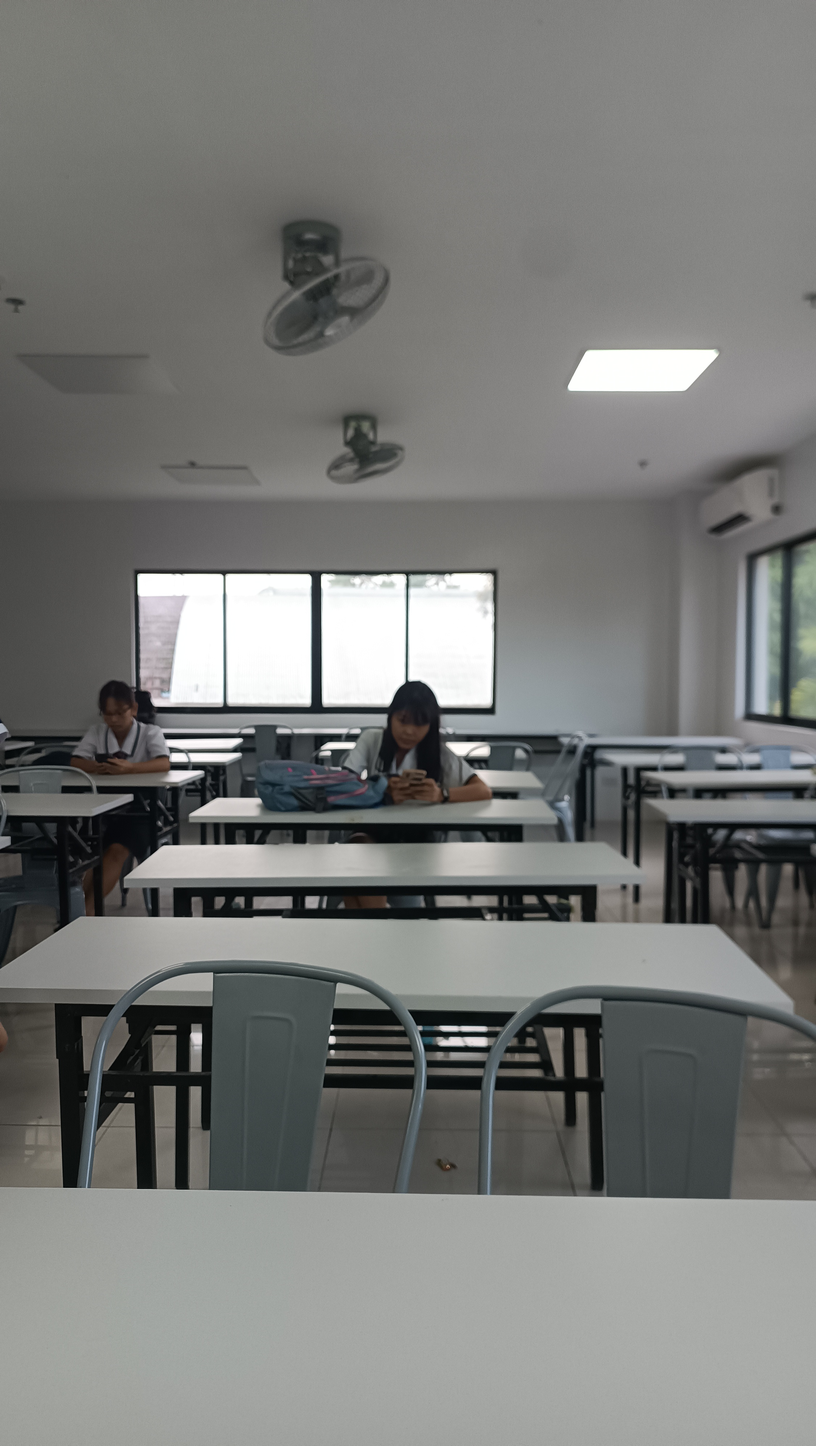with-student: (186, 678, 559, 841), (0, 675, 203, 795)
